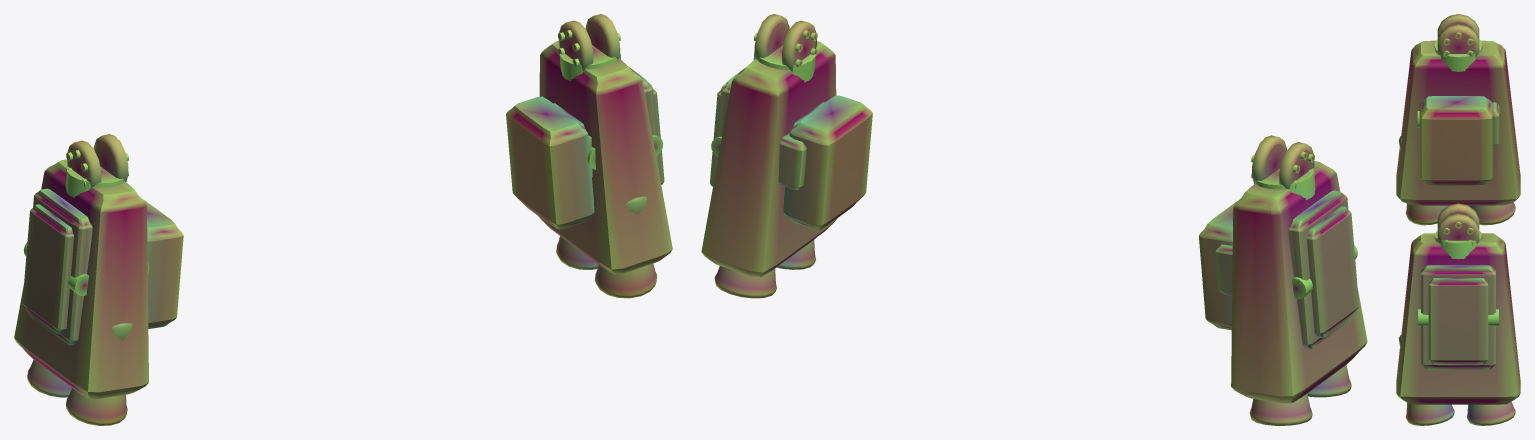
File: llm_gen_leg_thrusters_042_723ced.glb
The picture shows the model from 3 angles, left to right: view 1: azimuth 30°, elevation 25°; view 2: azimuth 150°, elevation 25°; view 3: azimuth 270°, elevation 25°; orthographic projection. The views are drawn at different scales.
Parts seen in each view (by area): view 1: flare_cowling_main_0_titanium_silver_l, flare_cowling_main_0_titanium_silver_r, adapter_calf_clamp_r, flare_louver_gold_3_psycho_emerald_l, adapter_calf_clamp_l, adapter_sub_louver_frame_dark_1_adapter_dark_l, servo_5_servo_accent_r, servo_5_servo_accent_l, flare_bell_fwd_6_vernier_bell_vernier_l, flare_bell_fwd_6_vernier_bell_vernier_r, flare_bell_aft_7_vernier_bell_vernier_l, adapter_sub_top_cap_dark_4_adapter_dark_l (+2 smaller); view 2: flare_cowling_main_0_titanium_silver_l, flare_cowling_main_0_titanium_silver_r, adapter_calf_clamp_r, flare_louver_gold_3_psycho_emerald_l, adapter_sub_louver_frame_dark_1_adapter_dark_l, adapter_calf_clamp_l, servo_5_servo_accent_r, servo_5_servo_accent_l, flare_bell_aft_7_vernier_bell_vernier_l, flare_bell_aft_7_vernier_bell_vernier_r, adapter_leg_tank_collar_dark_8_adapter_dark_r, adapter_sub_top_cap_dark_4_adapter_dark_l (+4 smaller); view 3: flare_cowling_main_0_titanium_silver_l, flare_cowling_main_0_titanium_silver_r, adapter_calf_clamp_l, flare_louver_gold_3_psycho_emerald_r, adapter_sub_louver_frame_dark_1_adapter_dark_r, servo_5_servo_accent_l, servo_5_servo_accent_r, flare_bell_aft_7_vernier_bell_vernier_r, flare_bell_fwd_6_vernier_bell_vernier_r, flare_bell_aft_7_vernier_bell_vernier_l, flare_bell_fwd_6_vernier_bell_vernier_l, adapter_sub_top_cap_dark_4_adapter_dark_r (+5 smaller).
Part boxes in pixels (left/top/right/bottom): flare_cowling_main_0_titanium_silver_l: left=14, top=159, right=148, bottom=398; flare_cowling_main_0_titanium_silver_r: left=538, top=40, right=672, bottom=274; adapter_calf_clamp_r: left=506, top=96, right=594, bottom=229; flare_louver_gold_3_psycho_emerald_l: left=22, top=204, right=73, bottom=334; adapter_calf_clamp_l: left=143, top=199, right=183, bottom=328; adapter_sub_louver_frame_dark_1_adapter_dark_l: left=25, top=188, right=92, bottom=345; servo_5_servo_accent_r: left=558, top=14, right=619, bottom=70; servo_5_servo_accent_l: left=67, top=134, right=128, bottom=187; flare_bell_fwd_6_vernier_bell_vernier_l: left=66, top=388, right=127, bottom=425; flare_bell_fwd_6_vernier_bell_vernier_r: left=595, top=263, right=656, bottom=298; flare_bell_aft_7_vernier_bell_vernier_l: left=27, top=359, right=71, bottom=397; adapter_sub_top_cap_dark_4_adapter_dark_l: left=65, top=166, right=124, bottom=197; flare_cowling_main_0_titanium_silver_l: left=1231, top=161, right=1367, bottom=403; flare_cowling_main_0_titanium_silver_r: left=701, top=41, right=837, bottom=277; adapter_calf_clamp_r: left=783, top=95, right=872, bottom=229; flare_louver_gold_3_psycho_emerald_l: left=1307, top=206, right=1358, bottom=337; adapter_sub_louver_frame_dark_1_adapter_dark_l: left=1288, top=190, right=1356, bottom=348; adapter_calf_clamp_l: left=1199, top=200, right=1238, bottom=330; servo_5_servo_accent_r: left=754, top=14, right=816, bottom=71; servo_5_servo_accent_l: left=1252, top=135, right=1314, bottom=189; flare_bell_aft_7_vernier_bell_vernier_l: left=1249, top=393, right=1312, bottom=425; flare_bell_aft_7_vernier_bell_vernier_r: left=714, top=266, right=776, bottom=298; adapter_leg_tank_collar_dark_8_adapter_dark_r: left=778, top=133, right=806, bottom=189; adapter_sub_top_cap_dark_4_adapter_dark_l: left=1255, top=168, right=1315, bottom=200; flare_cowling_main_0_titanium_silver_l: left=1396, top=40, right=1520, bottom=205; flare_cowling_main_0_titanium_silver_r: left=1396, top=233, right=1520, bottom=404; adapter_calf_clamp_l: left=1419, top=96, right=1493, bottom=185; flare_louver_gold_3_psycho_emerald_r: left=1428, top=278, right=1488, bottom=365; adapter_sub_louver_frame_dark_1_adapter_dark_r: left=1421, top=265, right=1495, bottom=369; servo_5_servo_accent_l: left=1437, top=14, right=1479, bottom=57; servo_5_servo_accent_r: left=1437, top=203, right=1479, bottom=243; flare_bell_aft_7_vernier_bell_vernier_r: left=1466, top=402, right=1515, bottom=425; flare_bell_fwd_6_vernier_bell_vernier_r: left=1405, top=403, right=1454, bottom=425; flare_bell_aft_7_vernier_bell_vernier_l: left=1468, top=202, right=1515, bottom=225; flare_bell_fwd_6_vernier_bell_vernier_l: left=1405, top=203, right=1448, bottom=225; adapter_sub_top_cap_dark_4_adapter_dark_r: left=1434, top=231, right=1482, bottom=259.
Size of the model in its own units: 82.74 by 33.52 by 18.55.
